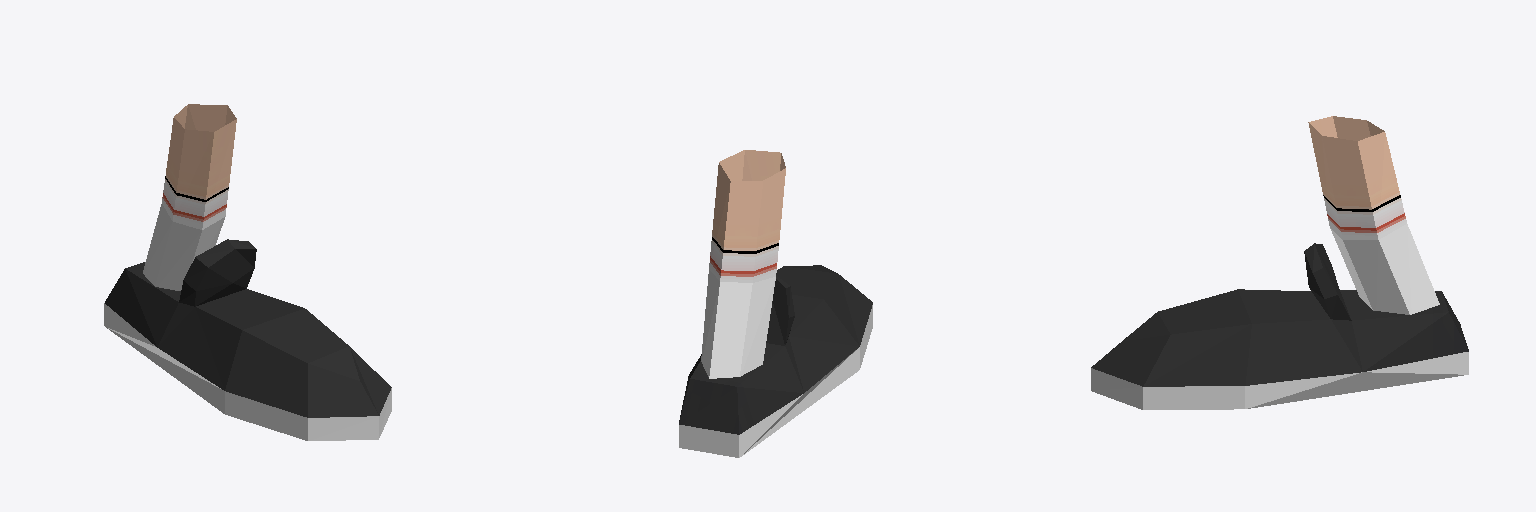
3 renders of one model, left to right at view 1: azimuth 30°, elevation 25°; view 2: azimuth 150°, elevation 25°; view 3: azimuth 270°, elevation 25°, orthographic.
Parts seen in each view (by area): view 1: piernaDipper_izq; view 2: piernaDipper_izq; view 3: piernaDipper_izq.
Part boxes in pixels (left/top/right/bottom): piernaDipper_izq: left=104, top=104, right=391, bottom=440; piernaDipper_izq: left=679, top=150, right=872, bottom=457; piernaDipper_izq: left=1091, top=116, right=1468, bottom=409.
Size of the model in its own units: 0.1963 by 0.3369 by 0.4765.
1 materials, 1 textured.